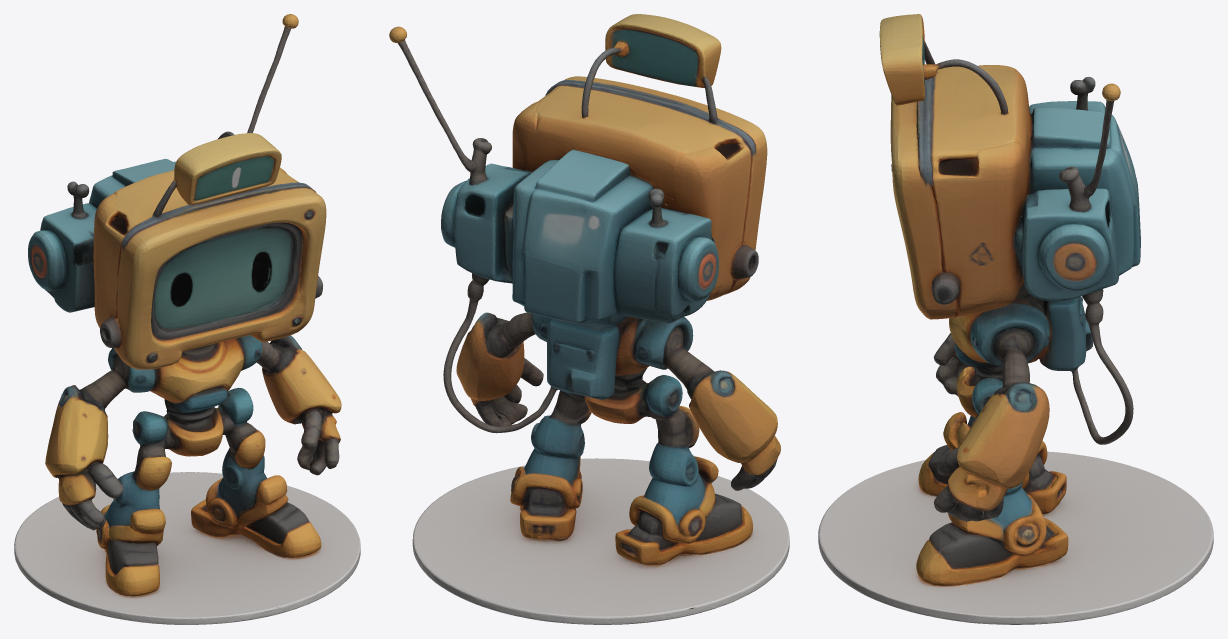
The model's file is Copilot3D-512b67c4-5aac-4ba3-a491-83bdcff563ec.glb.
3 views of the same model, side by side, from view 1: azimuth 30°, elevation 25°; view 2: azimuth 150°, elevation 25°; view 3: azimuth 270°, elevation 25° (orthographic). The views are drawn at different scales.
Parts seen in each view (by area): view 1: world; view 2: world; view 3: world.
Boxes of the visible parts, x1,y1,x2,y2 form: world: (14,14,360,624); world: (389,14,789,624); world: (818,14,1213,624).
Size of the model in its own units: 0.6659 by 0.9952 by 0.6617.
1 material, 1 textured.
